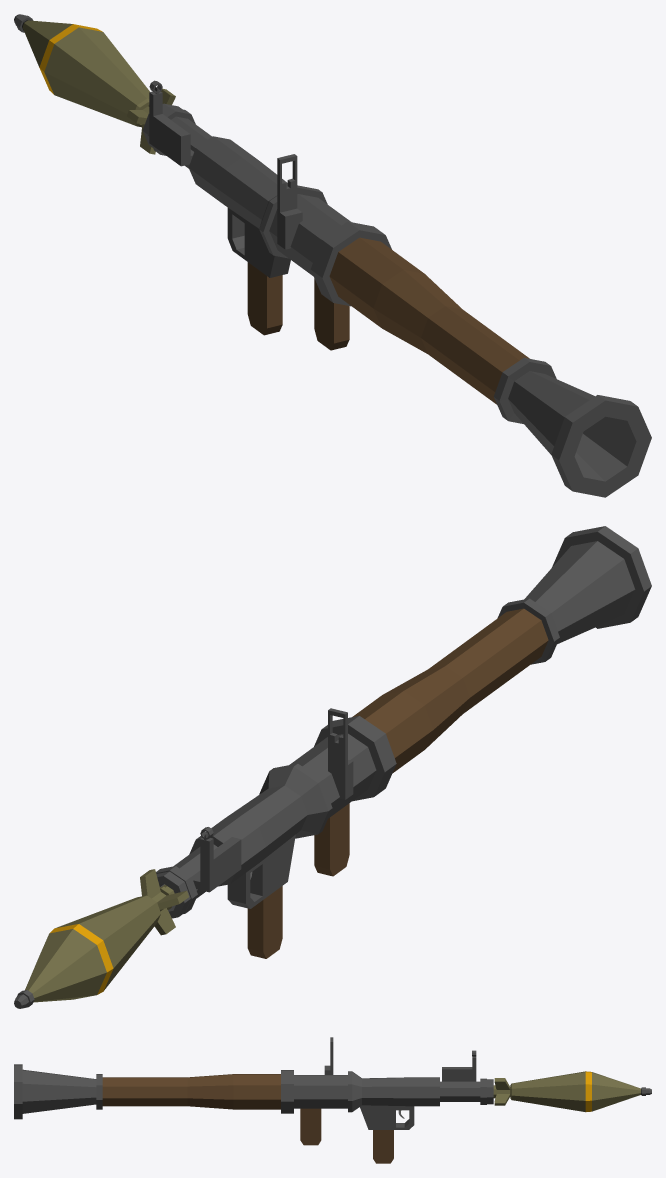
The model's file is weapon-rocket.glb.
3 views of the same model, one above another, from view 1: azimuth 30°, elevation 25°; view 2: azimuth 150°, elevation 25°; view 3: azimuth 270°, elevation 25° (orthographic). The views are drawn at different scales.
Parts seen in each view (by area): view 1: RPG7_part, Rocket_part; view 2: RPG7_part, Rocket_part; view 3: RPG7_part, Rocket_part.
Boxes of the visible parts, x1,y1,x2,y2 form: RPG7_part: [142, 80, 651, 497]; Rocket_part: [14, 14, 175, 154]; RPG7_part: [156, 526, 651, 958]; Rocket_part: [14, 869, 188, 1008]; RPG7_part: [14, 1037, 493, 1163]; Rocket_part: [493, 1071, 651, 1112].
Bounding box in the file's own units: 1.16 × 2.53 × 12.69.
1 material, 1 textured.
